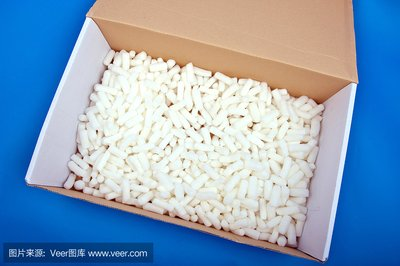5/可回收垃圾/泡沫: (25, 1, 358, 262)
